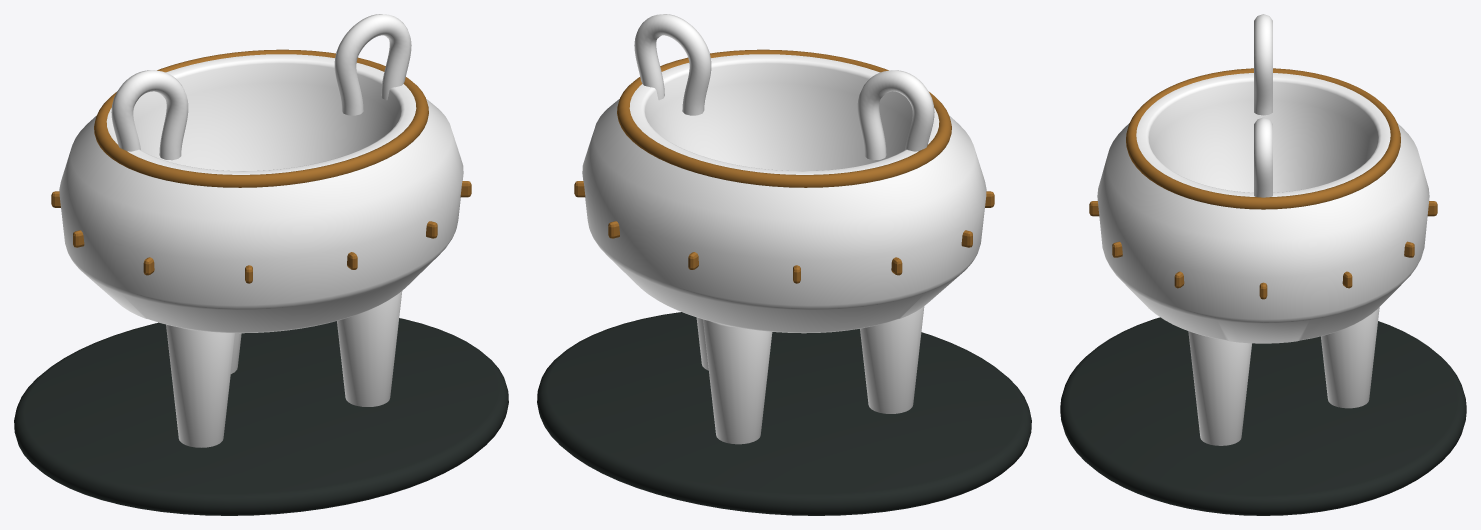
The model's file is heluo-bronze-ding.glb.
3 renders of one model, left to right at view 1: azimuth 30°, elevation 25°; view 2: azimuth 150°, elevation 25°; view 3: azimuth 270°, elevation 25°, orthographic. The views are drawn at different scales.
Visible parts, largest first — view 1: Ding_Body, Display_Pedestal, Ding_Rim_Band, Ding_Tripod_Leg_2, Ding_Tripod_Leg_3, Ding_Right_Ear, Ding_Left_Ear; view 2: Ding_Body, Display_Pedestal, Ding_Rim_Band, Ding_Tripod_Leg_1, Ding_Tripod_Leg_2, Ding_Right_Ear, Ding_Left_Ear; view 3: Ding_Body, Display_Pedestal, Ding_Rim_Band, Ding_Tripod_Leg_3, Ding_Tripod_Leg_1, Ding_Left_Ear, Ding_Right_Ear.
Boxes of the visible parts, <box> form: Ding_Body: <box>59,54,463,333</box>; Display_Pedestal: <box>14,318,508,515</box>; Ding_Rim_Band: <box>94,49,428,187</box>; Ding_Tripod_Leg_2: <box>166,324,235,447</box>; Ding_Tripod_Leg_3: <box>337,291,402,406</box>; Ding_Right_Ear: <box>334,14,411,115</box>; Ding_Left_Ear: <box>111,70,188,160</box>; Ding_Body: <box>582,54,986,333</box>; Display_Pedestal: <box>537,312,1031,515</box>; Ding_Rim_Band: <box>617,49,951,187</box>; Ding_Tripod_Leg_1: <box>703,319,772,444</box>; Ding_Tripod_Leg_2: <box>860,306,924,413</box>; Ding_Right_Ear: <box>634,14,711,115</box>; Ding_Left_Ear: <box>857,70,934,160</box>; Ding_Body: <box>1097,73,1429,343</box>; Display_Pedestal: <box>1060,317,1466,515</box>; Ding_Rim_Band: <box>1126,68,1400,209</box>; Ding_Tripod_Leg_3: <box>1188,331,1251,445</box>; Ding_Tripod_Leg_1: <box>1321,307,1379,408</box>; Ding_Left_Ear: <box>1254,14,1272,115</box>; Ding_Right_Ear: <box>1254,117,1272,197</box>.
Size of the model in its own units: 3.5 by 2.86 by 3.01.
